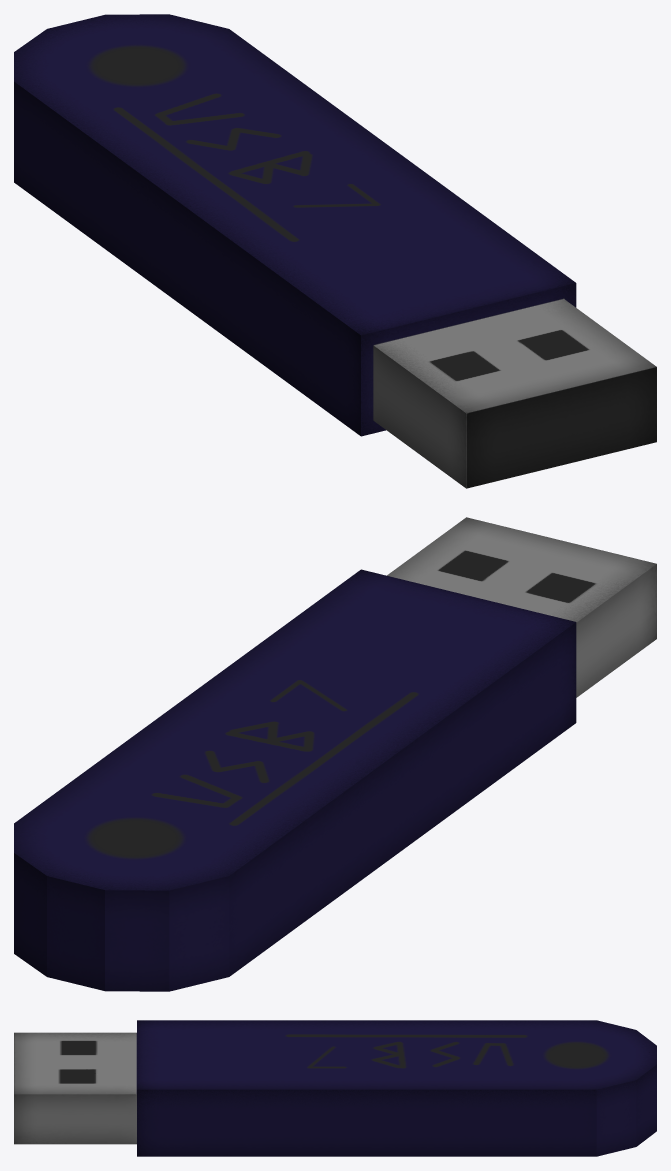
File: usb.fbx
The picture shows the model from 3 angles, top to bottom: view 1: azimuth 30°, elevation 25°; view 2: azimuth 150°, elevation 25°; view 3: azimuth 270°, elevation 25°; orthographic projection. The views are drawn at different scales.
Visible parts, largest first — view 1: Cube.020; view 2: Cube.020; view 3: Cube.020.
Boxes of the visible parts, left/top/right/bottom form: Cube.020: left=14, top=14, right=656, bottom=488; Cube.020: left=14, top=517, right=656, bottom=991; Cube.020: left=14, top=1020, right=656, bottom=1156.
Size of the model in its own units: 7.07 by 3.17 by 27.63.
1 material, 1 textured.
